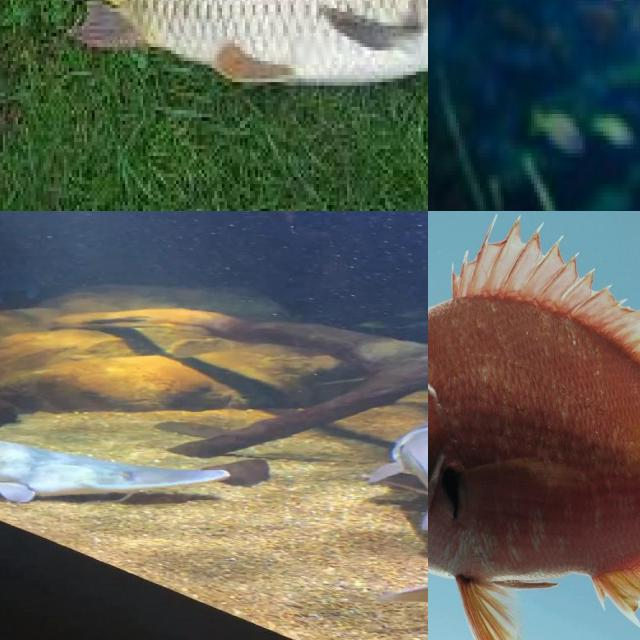fish: (428, 211, 640, 640), (0, 0, 428, 211), (366, 421, 428, 634)
